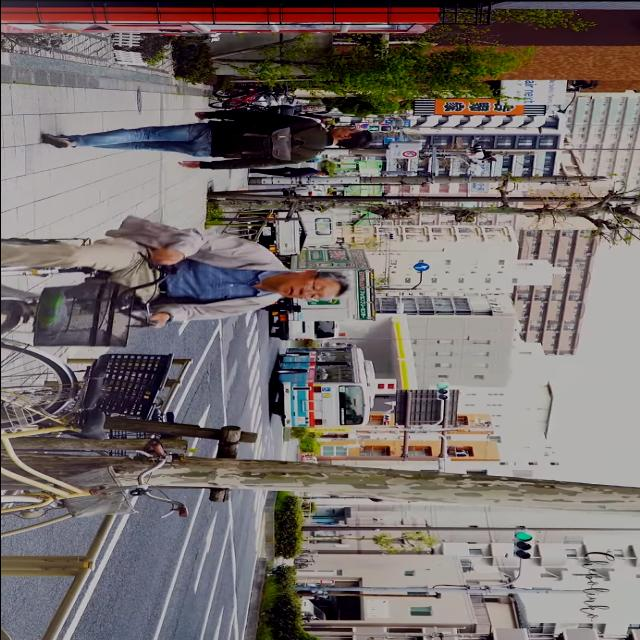bus: (271, 343, 377, 429)
